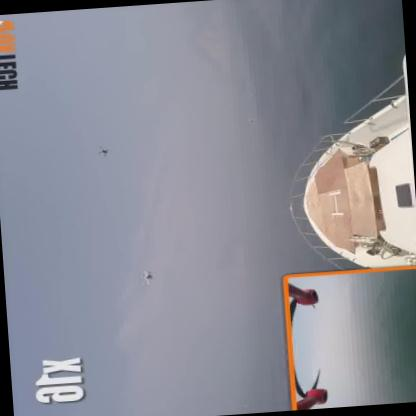drone: (137, 265, 161, 294), (90, 144, 113, 159)
